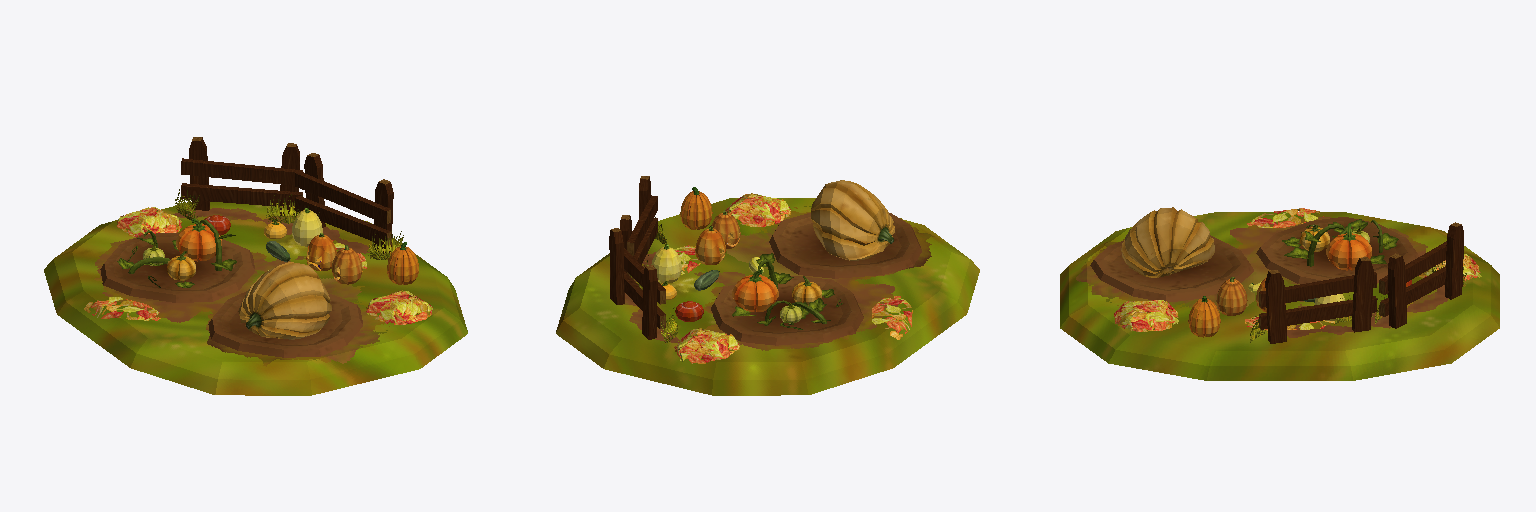
3 renders of one model, left to right at view 1: azimuth 30°, elevation 25°; view 2: azimuth 150°, elevation 25°; view 3: azimuth 270°, elevation 25°, orthographic.
Visible parts, largest first — view 1: field_Plane.001, Soil02_Plane.004, field_outside_Plane.002, Pumpkin_superbig_Sphere.002, Fance01_Cube.003, Soil_Plane, Fance_Cube, leaf_Plane.008, leaf.001_Plane.011, pumpkin_normal01_Sphere, Plane_Plane.012, Pumpkin_normal_long_Sphere.004 (+4 smaller); view 2: field_Plane.001, Soil02_Plane.004, Soil_Plane, Pumpkin_superbig_Sphere.002, field_outside_Plane.002, Fance01_Cube.003, Fance_Cube, leaf.001_Plane.011, leaf_Plane.008, pumpkin_normal01_Sphere, Plane_Plane.012, Pumpkin_normal_long_Sphere.004 (+4 smaller); view 3: field_Plane.001, Fance_Cube, Soil_Plane, Pumpkin_superbig_Sphere.002, Fance01_Cube.003, field_outside_Plane.002, Soil02_Plane.004, leaf_Plane.008, pumpkin_normal01_Sphere, Plane_Plane.012, Pumpkin_normal_long_Sphere.004, Pumpkinlamp_happy_Sphere.007.
Part boxes in pixels (x1,y1,x2,y2): field_Plane.001: (44,202,467,395); Soil02_Plane.004: (100,233,254,302); field_outside_Plane.002: (94,208,389,366); Pumpkin_superbig_Sphere.002: (238,262,331,339); Fance01_Cube.003: (181,137,302,215); Soil_Plane: (208,291,362,357); Fance_Cube: (295,153,393,253); leaf_Plane.008: (366,290,432,324); leaf.001_Plane.011: (117,207,181,236); pumpkin_normal01_Sphere: (176,219,221,261); Plane_Plane.012: (84,240,366,320); Pumpkin_normal_long_Sphere.004: (387,242,418,284); field_Plane.001: (556,198,979,395); Soil02_Plane.004: (711,276,863,345); Soil_Plane: (769,213,921,278); Pumpkin_superbig_Sphere.002: (811,180,894,260); field_outside_Plane.002: (623,206,934,350); Fance01_Cube.003: (609,228,665,339); Fance_Cube: (620,176,657,278); leaf.001_Plane.011: (674,328,739,363); leaf_Plane.008: (725,193,790,226); pumpkin_normal01_Sphere: (732,269,778,311); Plane_Plane.012: (674,245,912,339); Pumpkin_normal_long_Sphere.004: (680,187,712,229); field_Plane.001: (1060,212,1499,380); Fance_Cube: (1259,257,1377,343); Soil_Plane: (1090,235,1253,302); Pumpkin_superbig_Sphere.002: (1121,207,1214,277); Fance01_Cube.003: (1379,222,1463,328); field_outside_Plane.002: (1076,216,1448,337); Soil02_Plane.004: (1256,217,1418,283); leaf_Plane.008: (1114,300,1178,331); pumpkin_normal01_Sphere: (1326,223,1371,270); Plane_Plane.012: (1245,208,1334,330); Pumpkin_normal_long_Sphere.004: (1188,296,1220,337); Pumpkinlamp_happy_Sphere.007: (1216,277,1247,315).
Size of the model in its own units: 17.58 by 4.7 by 20.64.
Materials: 22 (21 with a texture image).